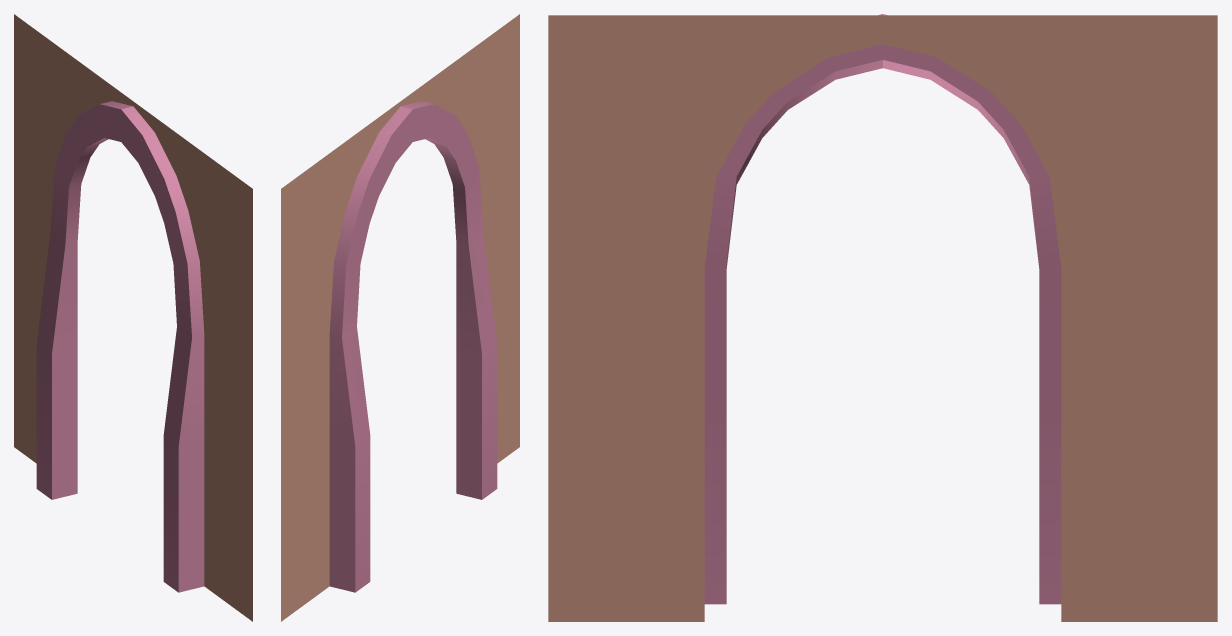
The model's file is Wall_Doorway.fbx.
3 renders of one model, left to right at view 1: azimuth 30°, elevation 25°; view 2: azimuth 150°, elevation 25°; view 3: azimuth 270°, elevation 25°, orthographic. The views are drawn at different scales.
Visible parts, largest first — view 1: Wall_Doorway; view 2: Wall_Doorway; view 3: Wall_Doorway.
Boxes of the visible parts, x1,y1,x2,y2 form: Wall_Doorway: (14, 14, 252, 621); Wall_Doorway: (281, 14, 519, 621); Wall_Doorway: (548, 14, 1217, 621).
Size of the model in its own units: 12.47 by 200 by 200.
